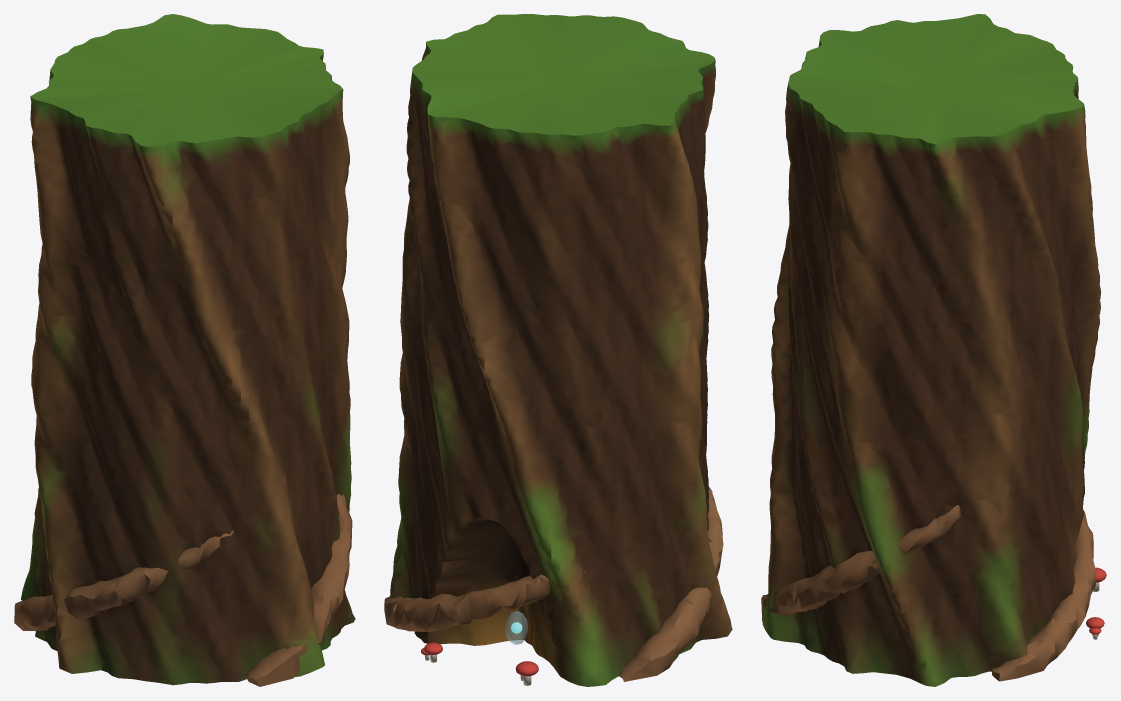
The model's file is glade_burrow_spire.glb.
The picture shows the model from 3 angles, left to right: view 1: azimuth 30°, elevation 25°; view 2: azimuth 150°, elevation 25°; view 3: azimuth 270°, elevation 25°; orthographic projection.
Parts seen in each view (by area): view 1: glade_burrow_spire; view 2: glade_burrow_spire, crown; view 3: glade_burrow_spire.
Part boxes in pixels (left/top/right/bottom): glade_burrow_spire: left=14, top=14, right=355, bottom=686; glade_burrow_spire: left=384, top=14, right=732, bottom=686; crown: left=505, top=611, right=527, bottom=644; glade_burrow_spire: left=761, top=14, right=1106, bottom=686.
Bounding box in the file's own units: 16.39 × 28 × 16.43.
